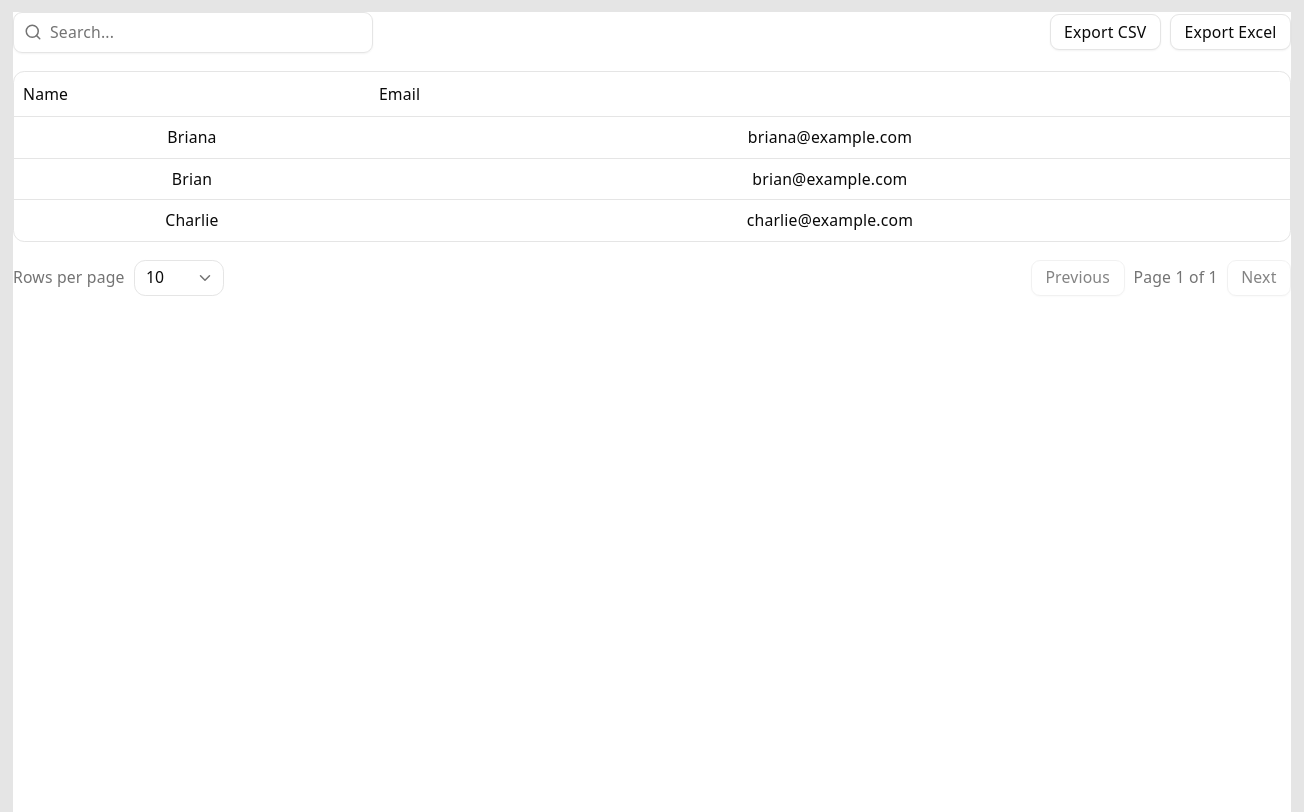
Test case: DataTable › searching narrows visible rows to matching ones only
Step 1. Type "briana" into the field with placeholder "Search..." → (193, 32), box [13,12,373,52]
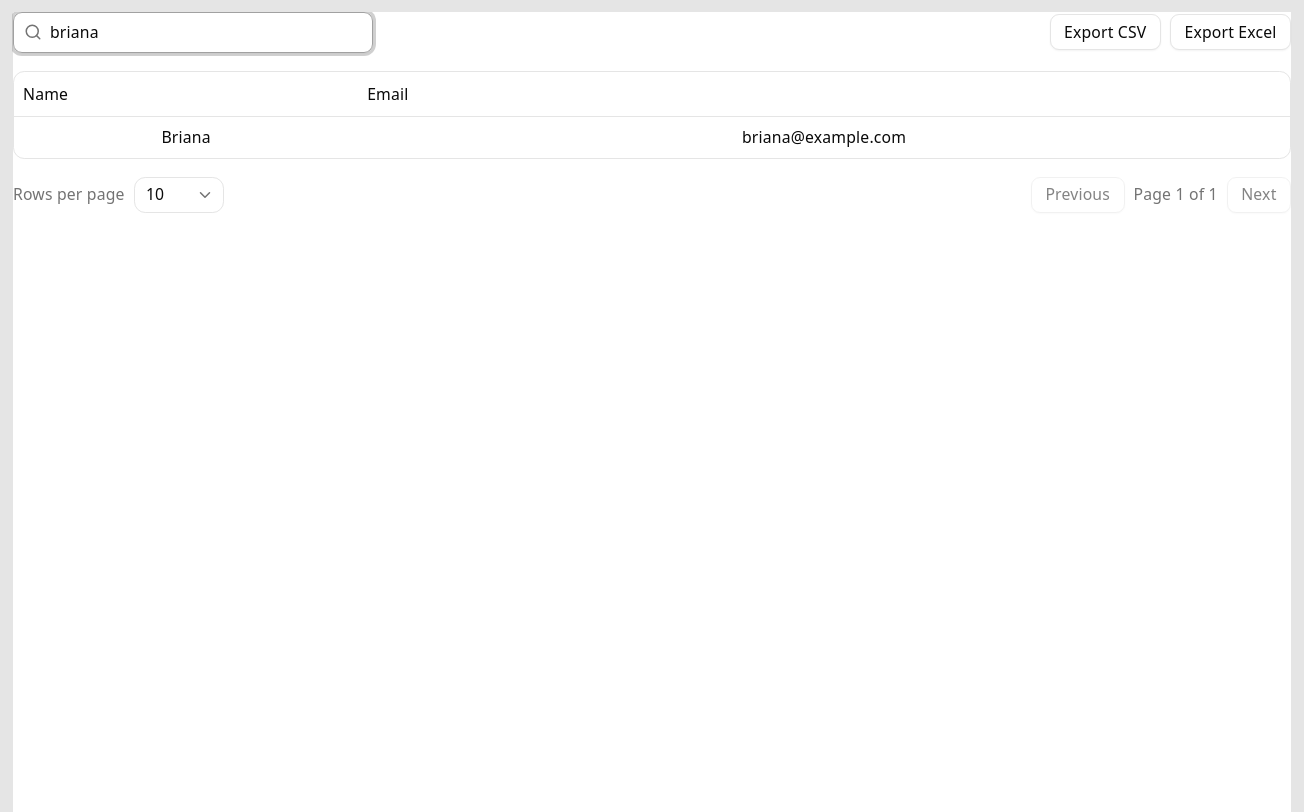
Expected: the text "Briana" is shown, [14,116,358,158]
Result: the text "Charlie" is gone
